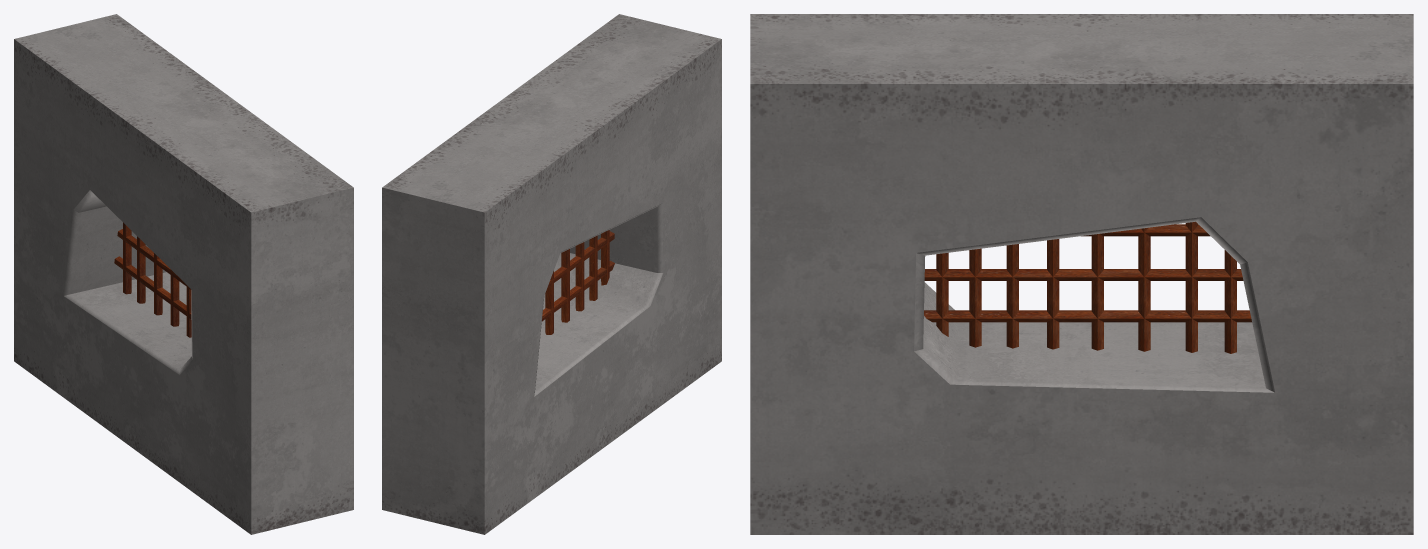
File: Window A.fbx
3 renders of one model, left to right at view 1: azimuth 30°, elevation 25°; view 2: azimuth 150°, elevation 25°; view 3: azimuth 270°, elevation 25°, orthographic. The views are drawn at different scales.
Parts seen in each view (by area): view 1: Wall_Window_4x1_A, Mini_Bars12; view 2: Wall_Window_4x1_A, Mini_Bars12; view 3: Wall_Window_4x1_A, Mini_Bars12.
Part boxes in pixels (x1,y1,x2,y2): Wall_Window_4x1_A: [14, 14, 353, 534]; Mini_Bars12: [114, 222, 191, 337]; Wall_Window_4x1_A: [382, 14, 721, 534]; Mini_Bars12: [542, 230, 614, 334]; Wall_Window_4x1_A: [750, 14, 1413, 534]; Mini_Bars12: [924, 221, 1251, 353].
Size of the model in its own units: 1 by 3 by 4.
